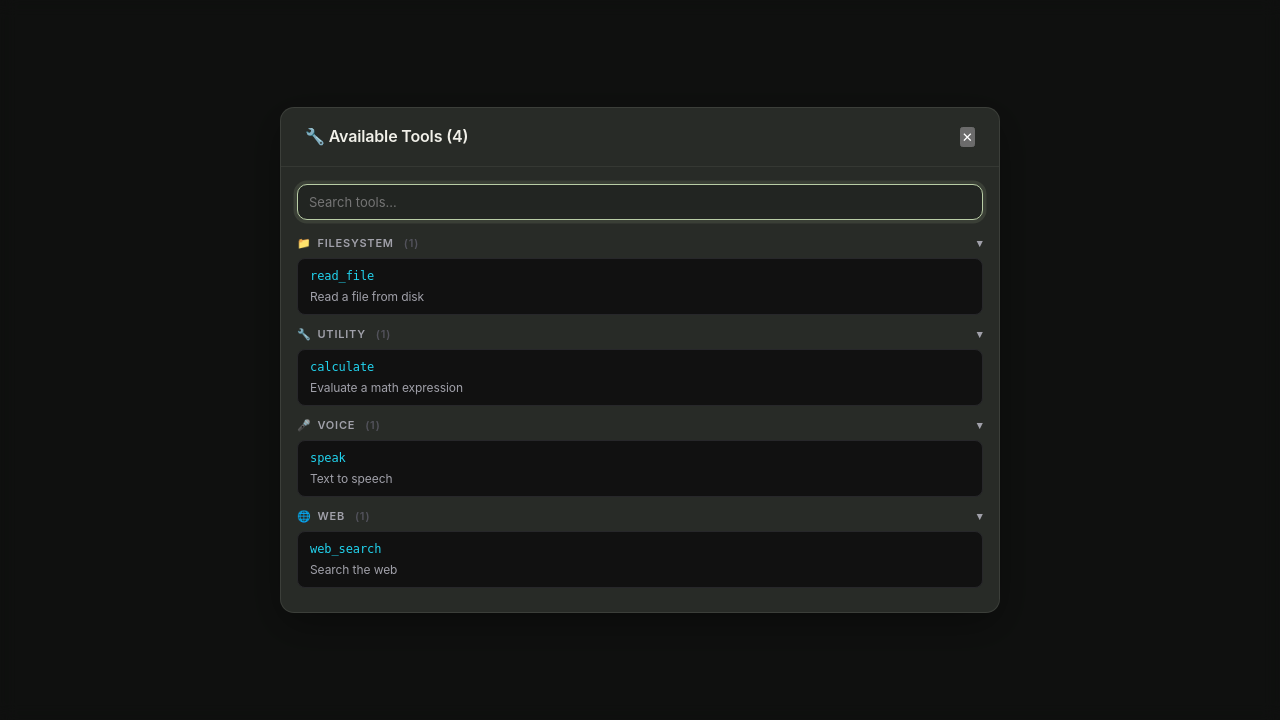
Test case: ToolsPanel — category collapse/expand › clicking a collapsed category re-expands it
The width and height of the screenshot is (1280, 720).
Click the button with aria-label "Filesystem tools" at x=356, y=243, box [297, 232, 983, 254]
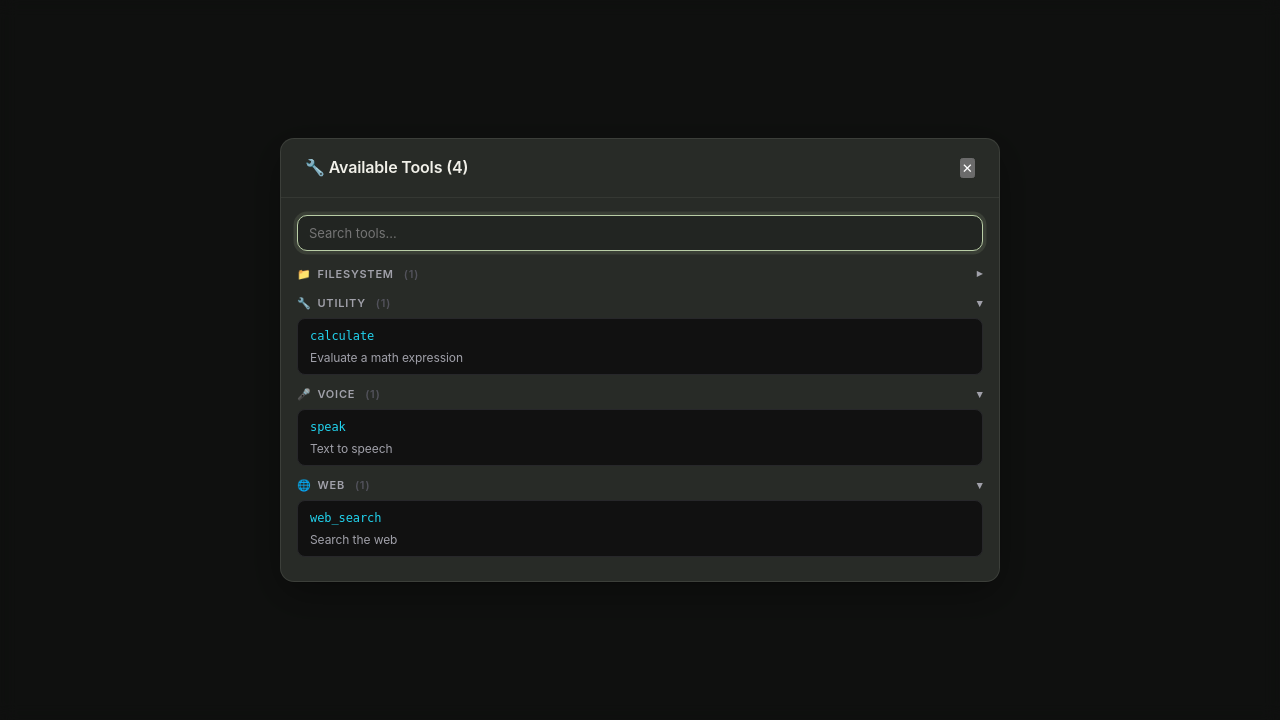
Click the button with aria-label "Filesystem tools" at x=356, y=273, box [297, 262, 983, 284]
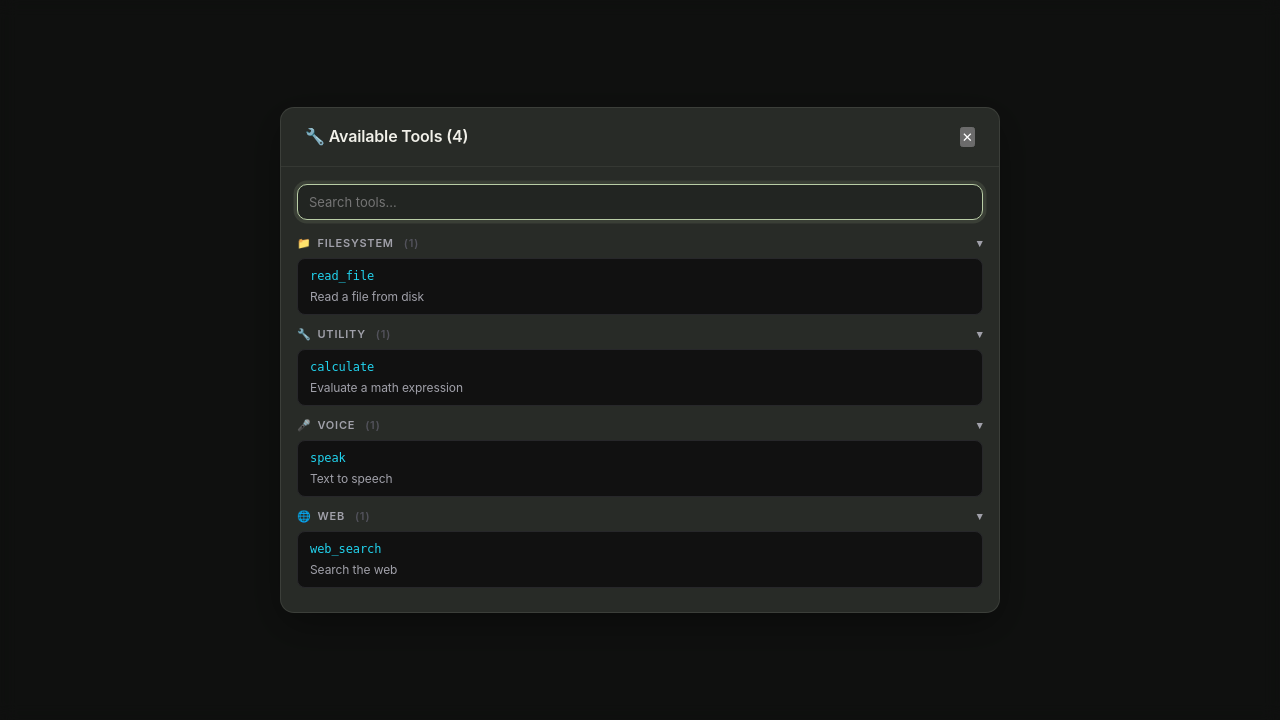
Expected: the text "read_file" is shown, [310, 267, 374, 286]
